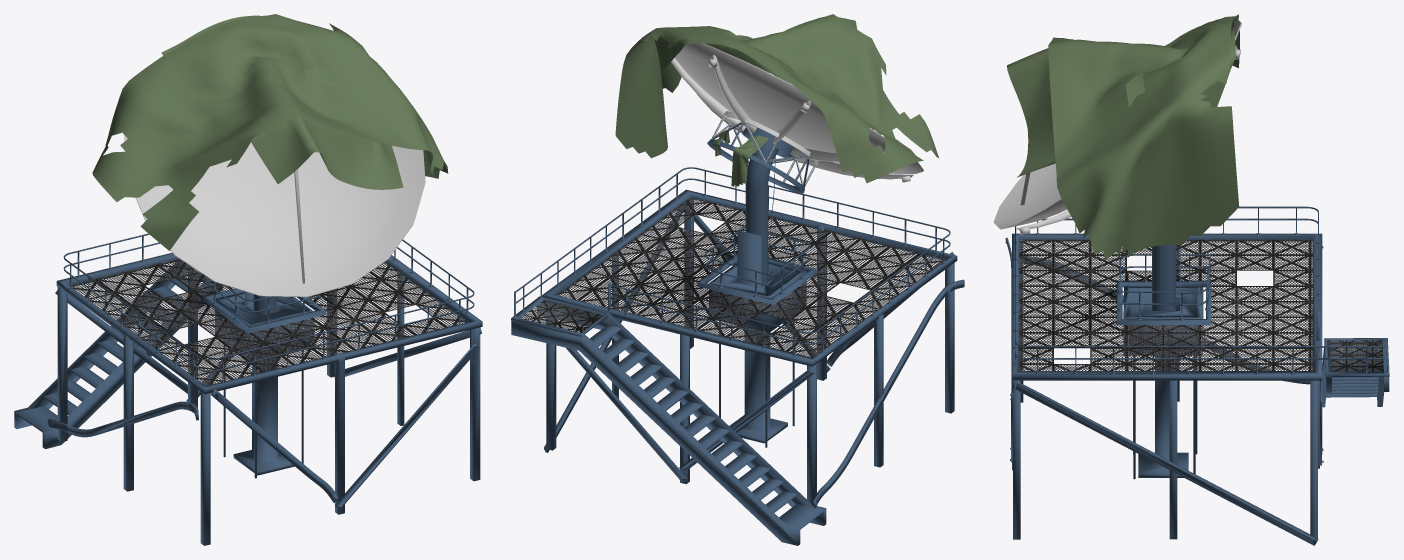
File: Sat Tower not working.fbx
3 renders of one model, left to right at view 1: azimuth 30°, elevation 25°; view 2: azimuth 150°, elevation 25°; view 3: azimuth 270°, elevation 25°, orthographic. The views are drawn at different scales.
Visible parts, largest first — view 1: Sat_Off; view 2: Sat_Off; view 3: Sat_Off.
Part boxes in pixels (x1,y1,x2,y2): Sat_Off: [14, 14, 482, 545]; Sat_Off: [511, 14, 964, 545]; Sat_Off: [993, 14, 1389, 545].
Bounding box in the file's own units: 538 × 700 × 566.
